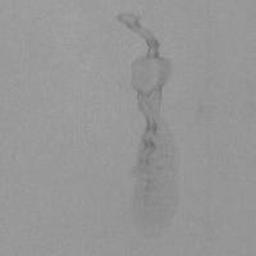Water spot: (116, 9, 182, 243)
